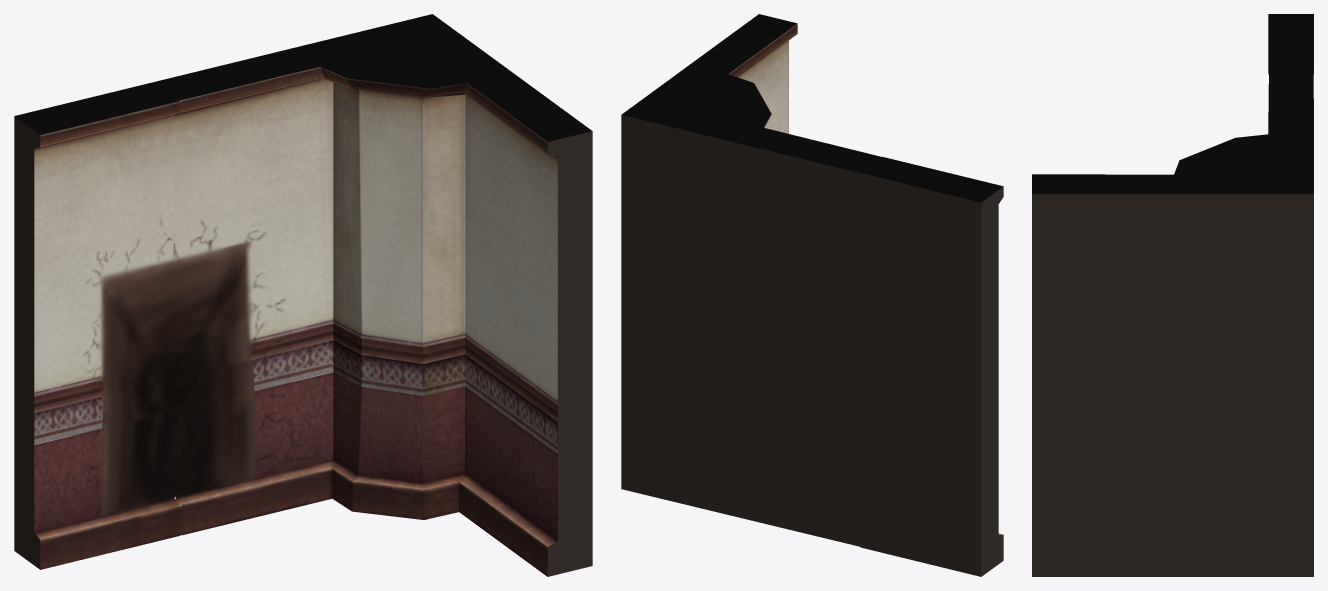
Rendered from a_SCwall05a_1.glb.
The picture shows the model from 3 angles, left to right: view 1: azimuth 30°, elevation 25°; view 2: azimuth 150°, elevation 25°; view 3: azimuth 270°, elevation 25°; orthographic projection. The views are drawn at different scales.
Visible parts, largest first — view 1: a_SCwall05a_1; view 2: a_SCwall05a_1; view 3: a_SCwall05a_1.
Part boxes in pixels (left/top/right/bottom): a_SCwall05a_1: left=14, top=14, right=592, bottom=576; a_SCwall05a_1: left=621, top=14, right=1003, bottom=576; a_SCwall05a_1: left=1032, top=14, right=1313, bottom=576.
Size of the model in its own units: 3.02 by 3 by 2.
2 materials, 2 textured.
